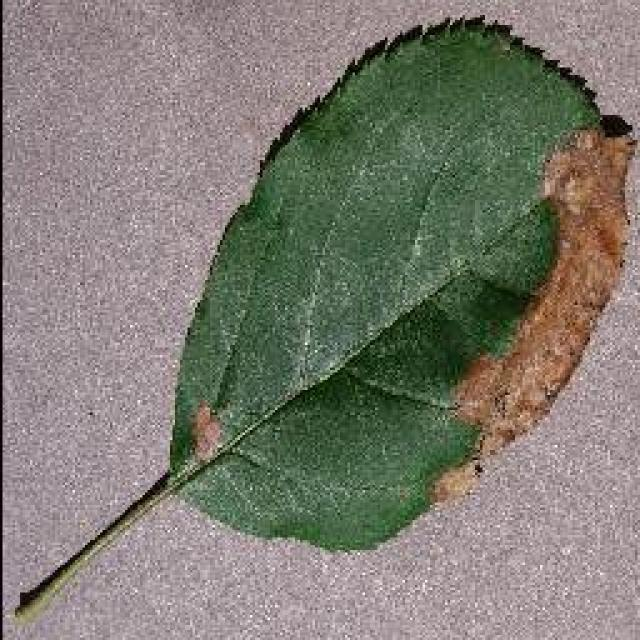Black_rot: (10, 13, 630, 625)
